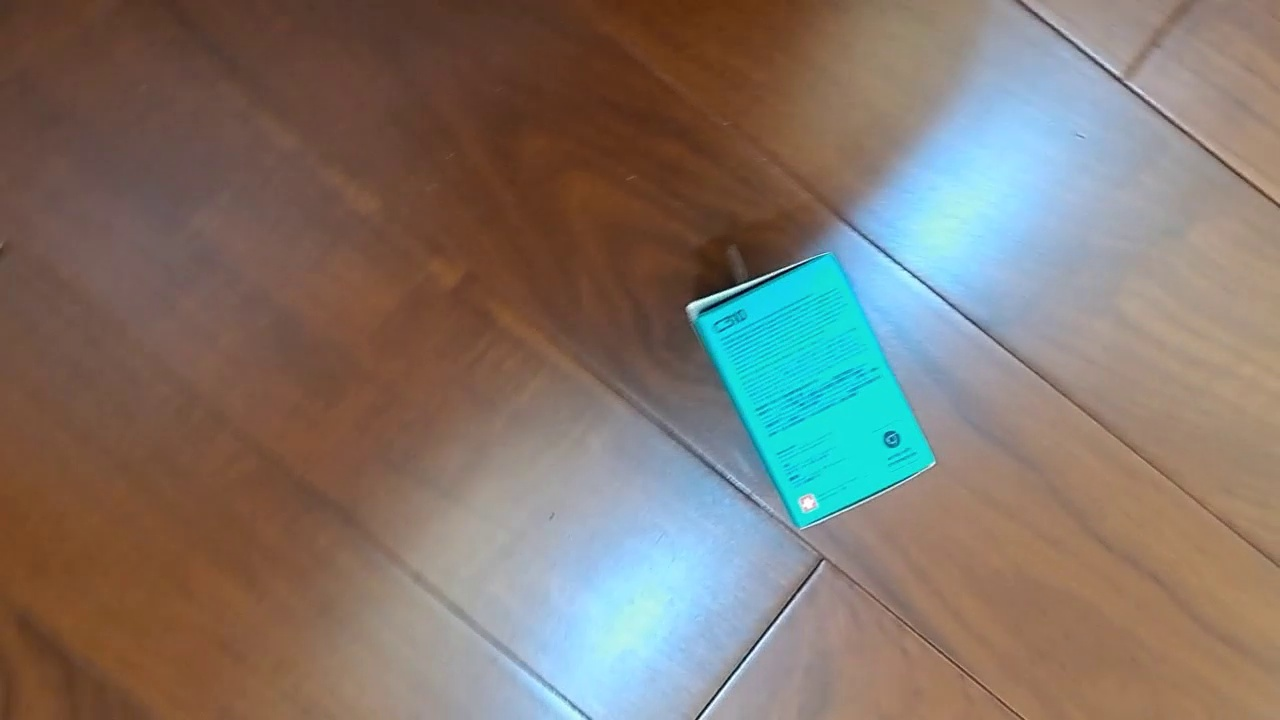webcam: (683, 250, 937, 531)
